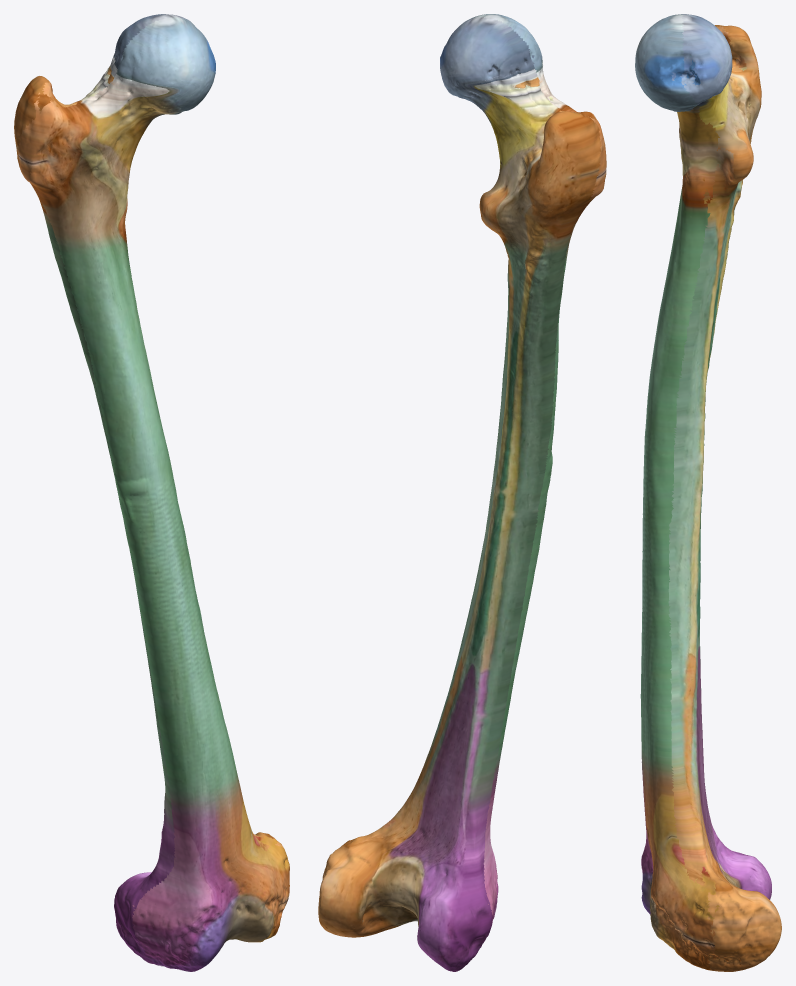
Rendered from kosc-udowa.glb.
3 renders of one model, left to right at view 1: azimuth 30°, elevation 25°; view 2: azimuth 150°, elevation 25°; view 3: azimuth 270°, elevation 25°, orthographic. The views are drawn at different scales.
Size of the model in its own units: 0.1258 by 0.4263 by 0.0626.
2 materials, 1 textured.
